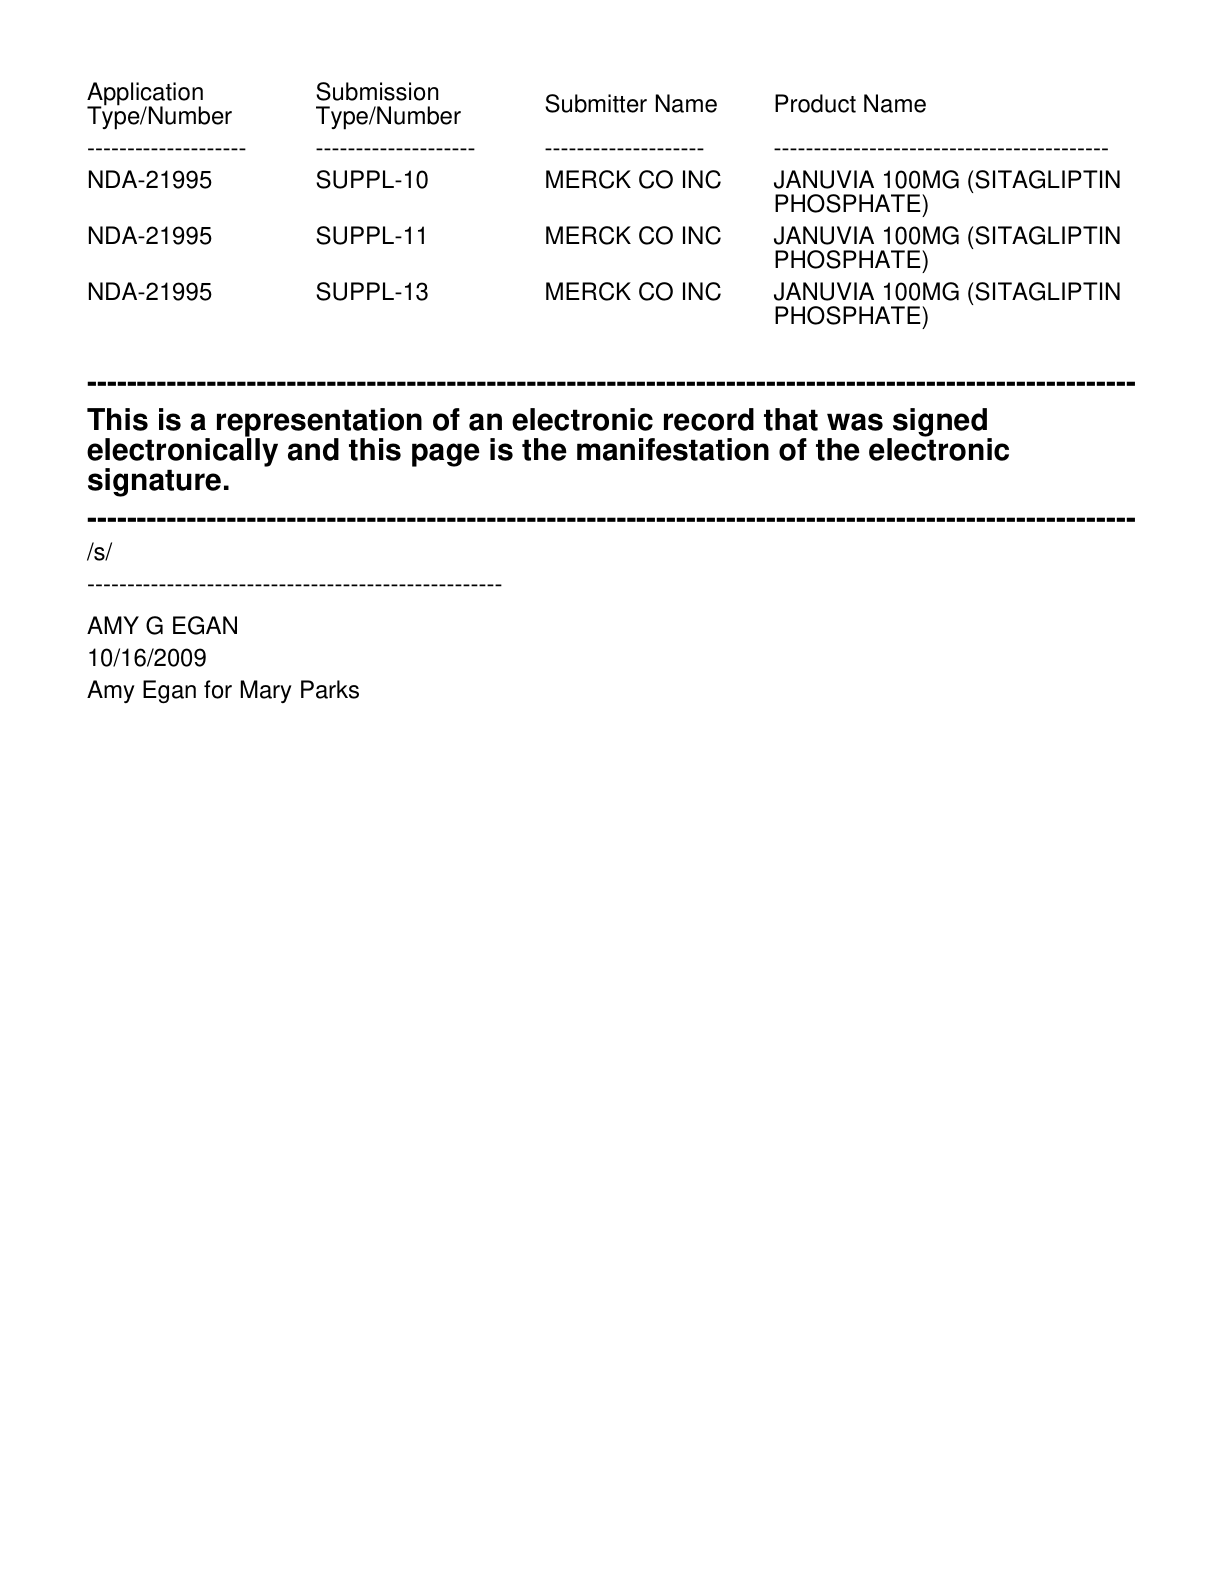nolines: (84, 78, 1131, 329)
